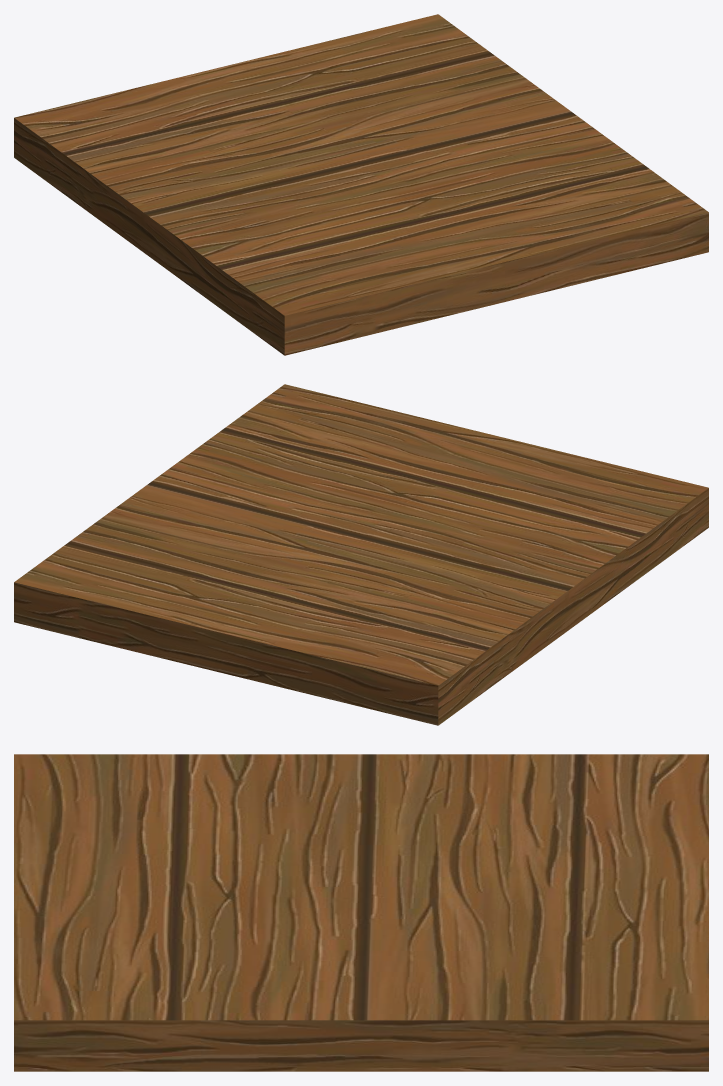
File: Ceiling.fbx
3 renders of one model, top to bottom at view 1: azimuth 30°, elevation 25°; view 2: azimuth 150°, elevation 25°; view 3: azimuth 270°, elevation 25°, orthographic. The views are drawn at different scales.
Parts seen in each view (by area): view 1: Ceiling; view 2: Ceiling; view 3: Ceiling.
Part boxes in pixels (x1,y1,x2,y2): Ceiling: (14,14,708,355); Ceiling: (14,384,708,725); Ceiling: (14,754,708,1071).
Bounding box in the file's own units: 140 × 12.62 × 155.
